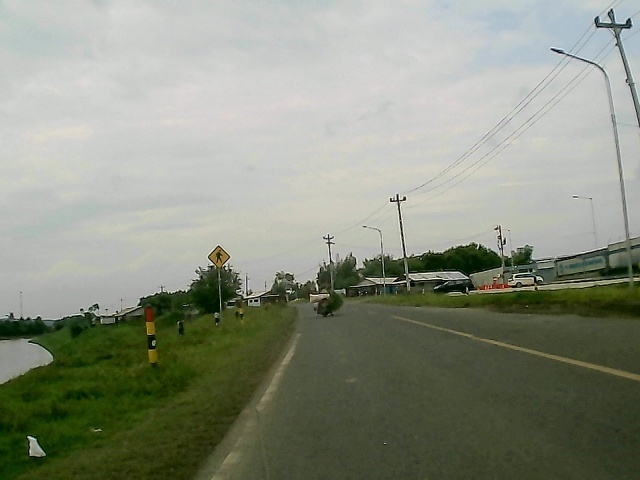Peringatan orang menyeberang: (204, 244, 233, 271)
